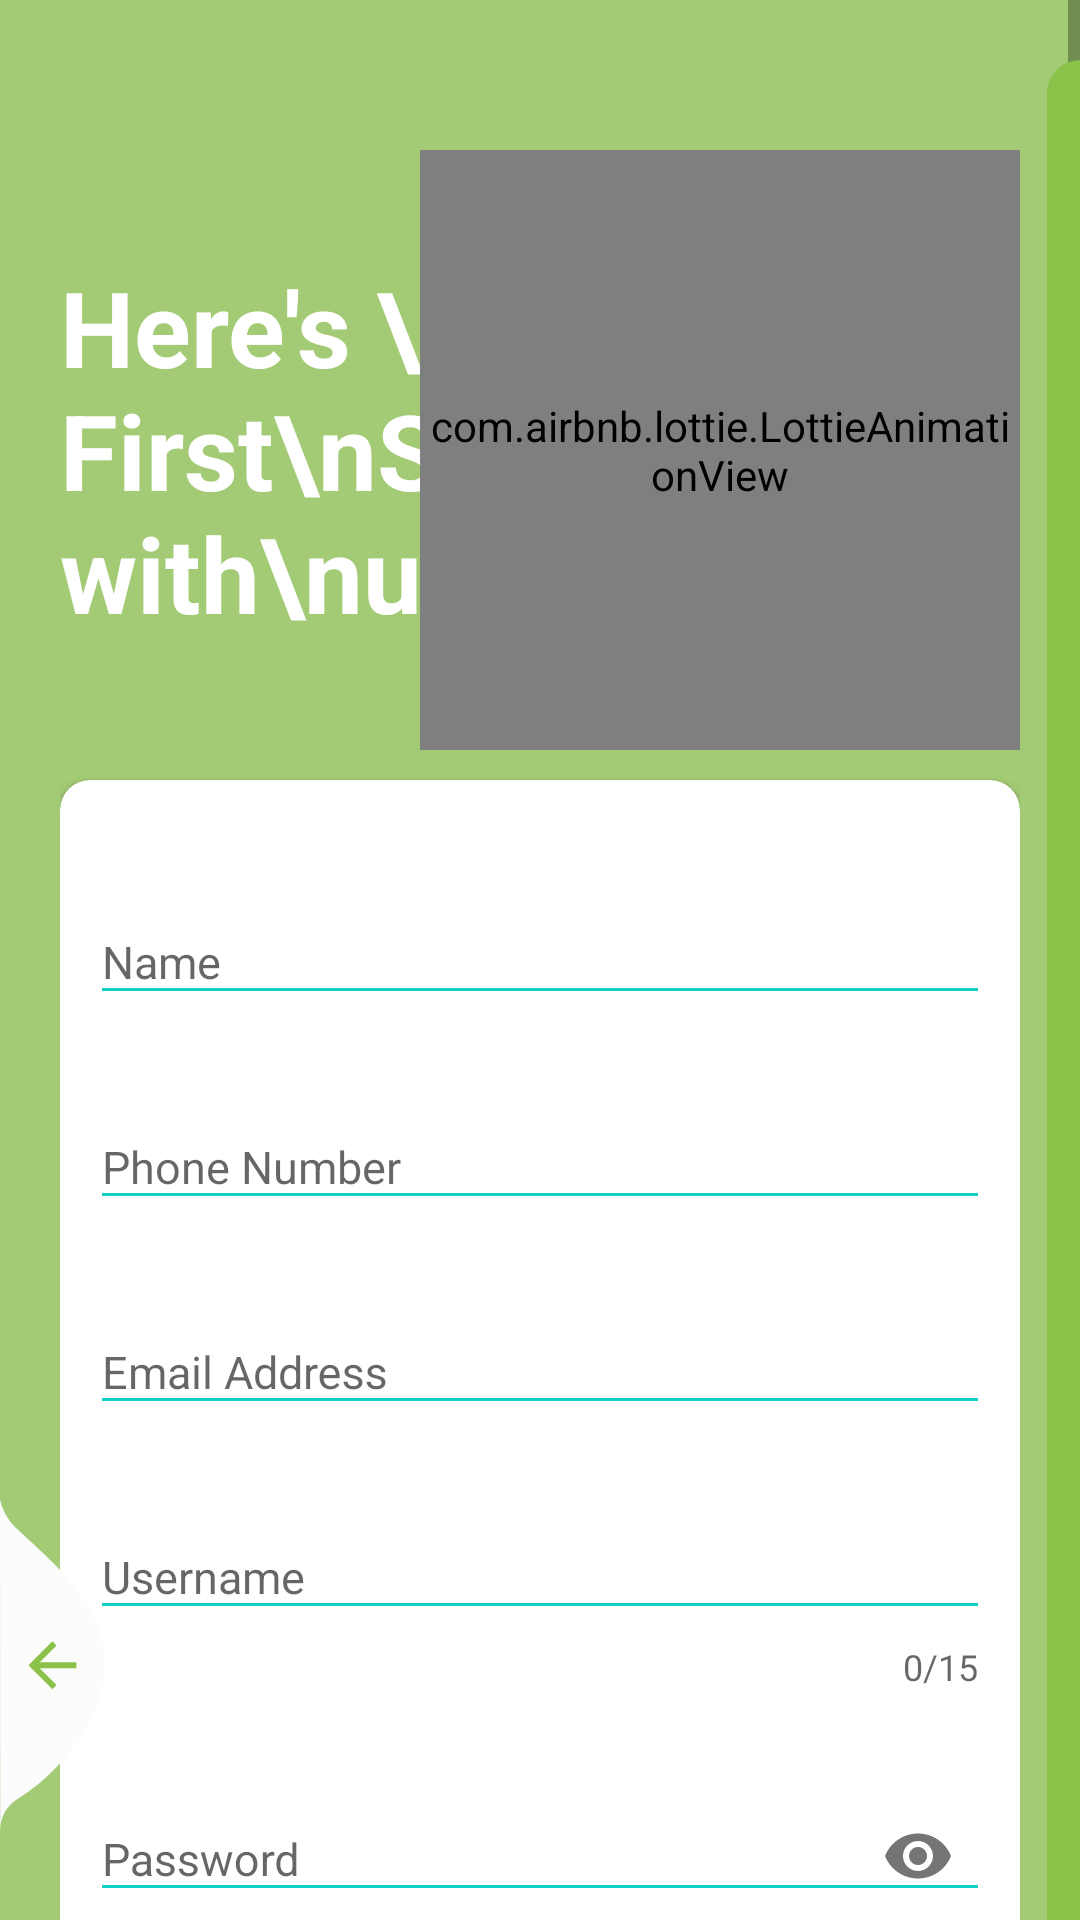

Icons on this 1080x1920 Android screen, each with the point to tap as [x,y]:
back: [52,1665]
